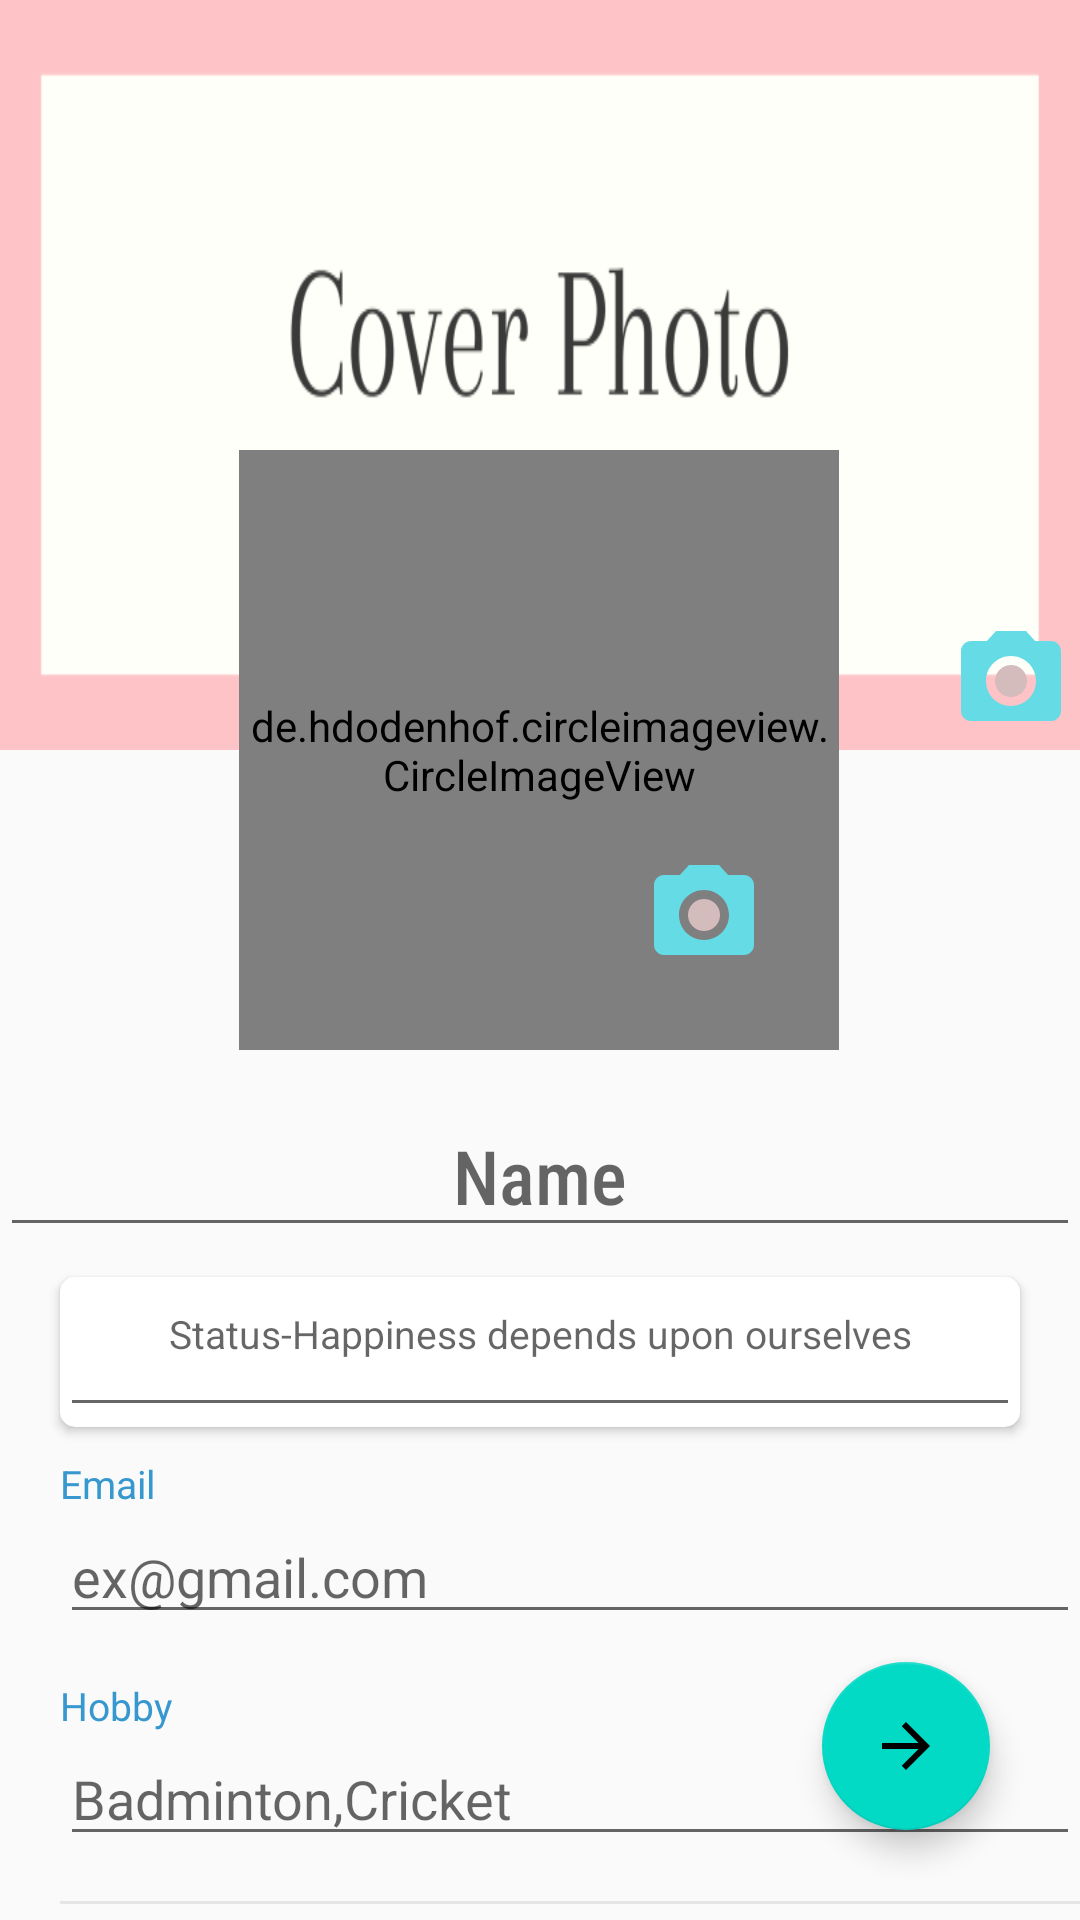

Screen size 1080×1920. Icon name, then its center in pixels as (x=x, y=y):
arrow forward: (x=906, y=1746)
photo camera: (x=1006, y=671), (x=704, y=910)
